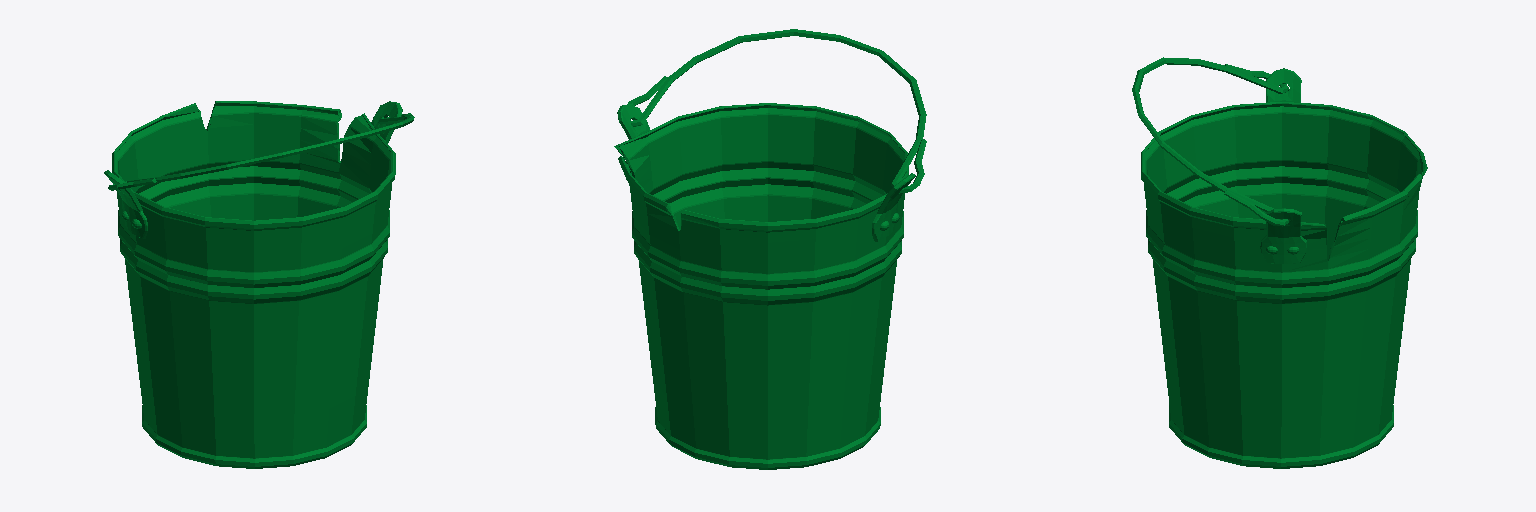
The model's file is bucket.obj.
The picture shows the model from 3 angles: view 1: azimuth 30°, elevation 25°; view 2: azimuth 150°, elevation 25°; view 3: azimuth 270°, elevation 25°; orthographic projection.
Parts seen in each view (by area): view 1: bucket01; view 2: bucket01; view 3: bucket01.
Part boxes in pixels (x1,y1,x2,y2): bucket01: (104,101,414,468); bucket01: (614,29,926,469); bucket01: (1132,57,1427,468).
Size of the model in its own units: 12.08 by 12.95 by 10.36.